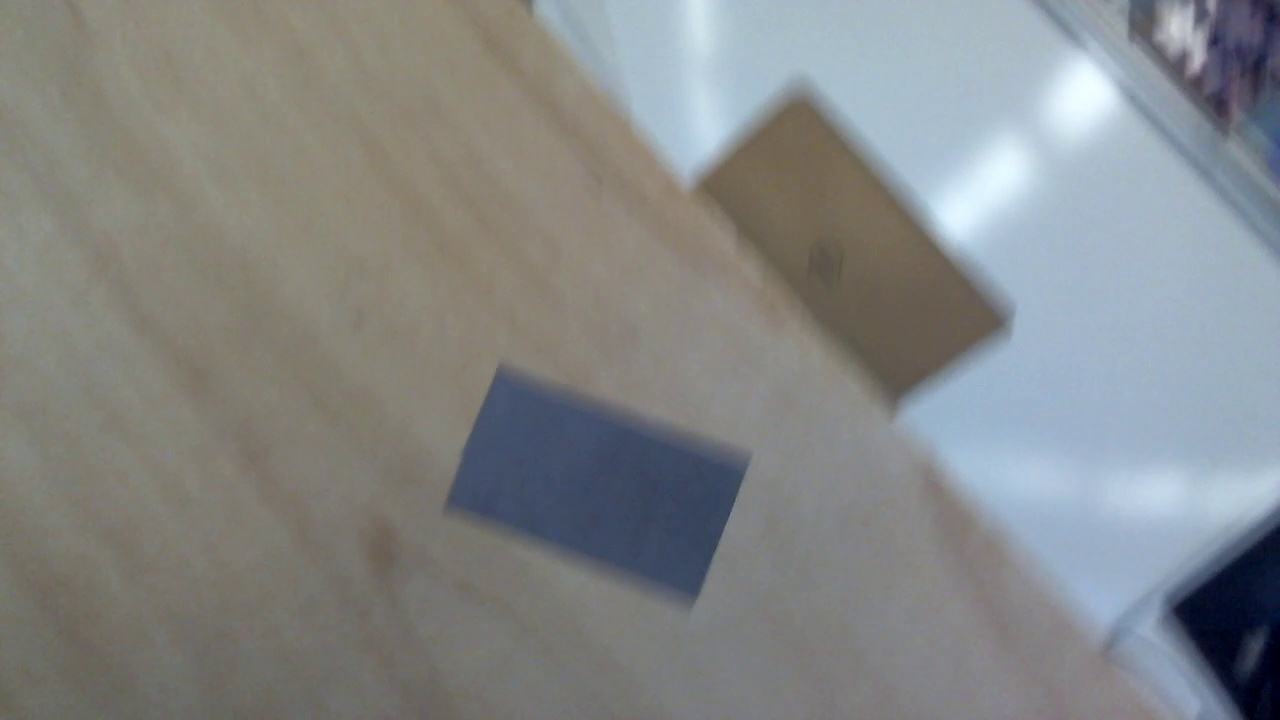Tape: (441, 362, 754, 610)
